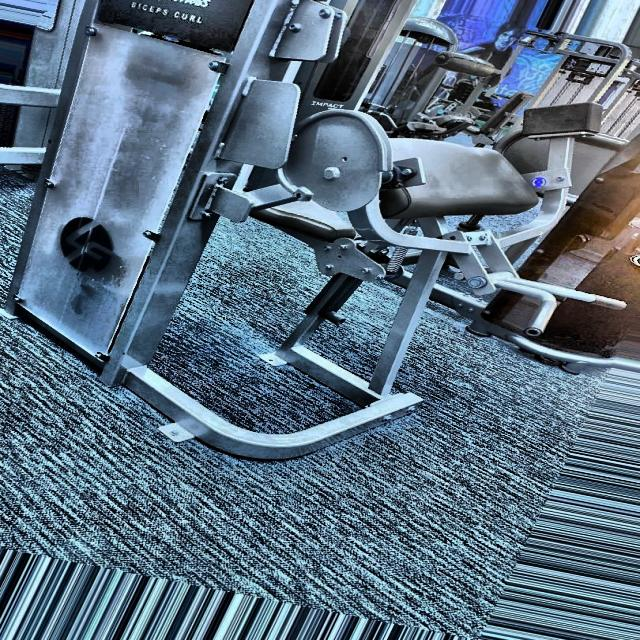bicep_curl_machine: (3, 1, 591, 466), (120, 0, 221, 38)
